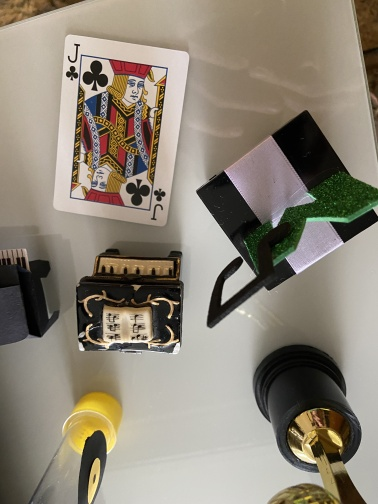jack: (50, 32, 192, 228)
